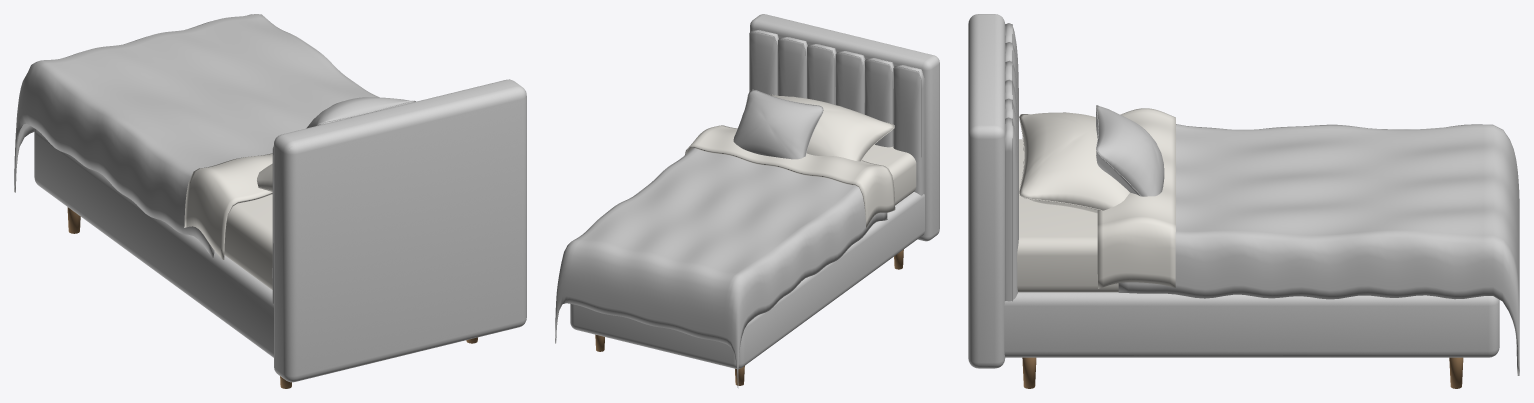
File: bed-single-upholstered.glb
The picture shows the model from 3 angles, left to right: view 1: azimuth 30°, elevation 25°; view 2: azimuth 150°, elevation 25°; view 3: azimuth 270°, elevation 25°; orthographic projection. The views are drawn at different scales.
Visible parts, largest first — view 1: Houseit bed-single-upholstered; view 2: Houseit bed-single-upholstered; view 3: Houseit bed-single-upholstered.
Part boxes in pixels (x1,y1,x2,y2): Houseit bed-single-upholstered: (14, 14, 526, 388); Houseit bed-single-upholstered: (555, 14, 939, 388); Houseit bed-single-upholstered: (968, 14, 1519, 388).
Size of the model in its own units: 0.9987 by 1.05 by 1.94.
3 materials, 1 textured.
